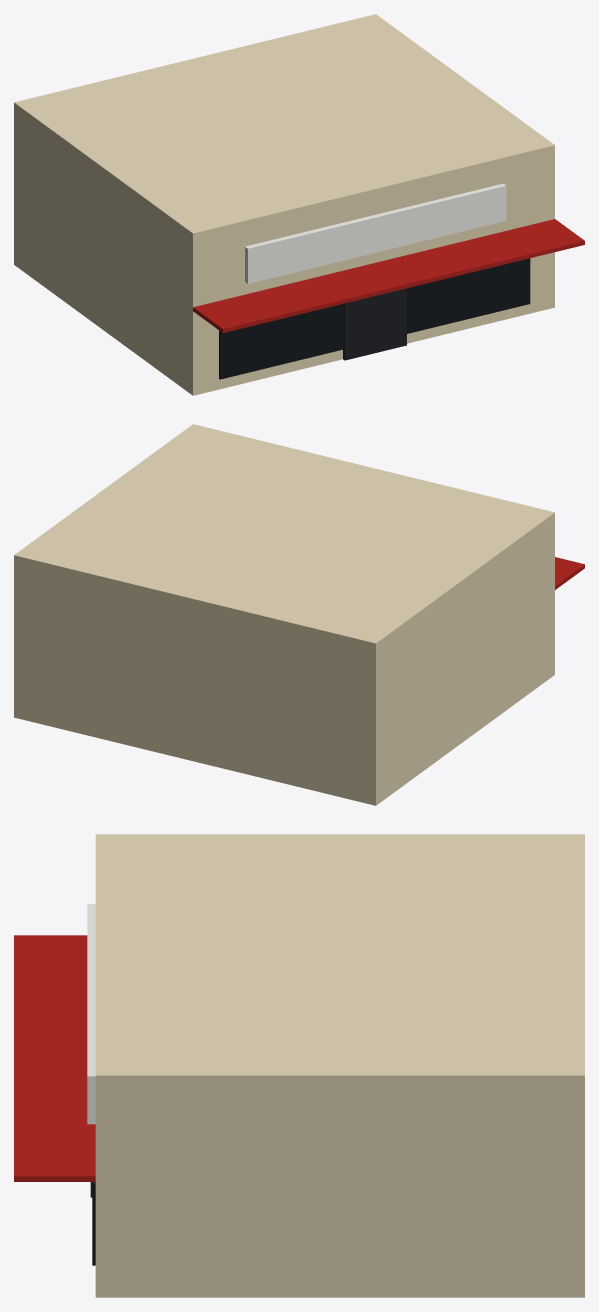
Rendered from supermarket.glb.
The picture shows the model from 3 angles, top to bottom: view 1: azimuth 30°, elevation 25°; view 2: azimuth 150°, elevation 25°; view 3: azimuth 270°, elevation 25°; orthographic projection. The views are drawn at different scales.
Visible parts, largest first — view 1: supermarket; view 2: supermarket; view 3: supermarket.
Part boxes in pixels (x1,y1,x2,y2): supermarket: [14, 14, 584, 395]; supermarket: [14, 424, 584, 805]; supermarket: [14, 834, 584, 1297].
Size of the model in its own units: 14 by 6 by 14.
